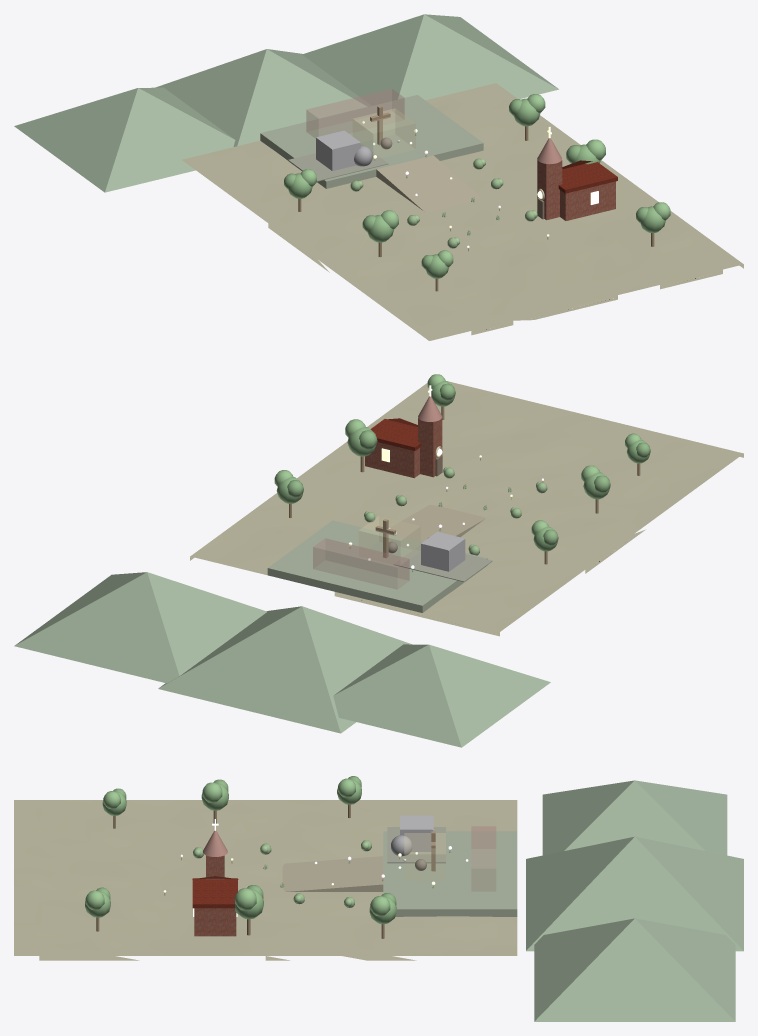
Rendered from cross_and_tomb.glb.
3 renders of one model, top to bottom at view 1: azimuth 30°, elevation 25°; view 2: azimuth 150°, elevation 25°; view 3: azimuth 270°, elevation 25°, orthographic. The views are drawn at different scales.
Parts seen in each view (by area): view 1: ENV_Cross_Ground, VIS_PROP_Ridge_GreenHills (×3), ENV_Cross_Hilltop, VIS_PROP_Chapel (×3), ENV_Cross_HillPath, TRIGGER_DemoEnd, TRIGGER_CrossEvent, VIS_PROP_Tomb, ENV_Cross_TombSlope; view 2: ENV_Cross_Ground, VIS_PROP_Ridge_GreenHills (×3), ENV_Cross_Hilltop, VIS_PROP_Chapel (×3), TRIGGER_DemoEnd, ENV_Cross_HillPath, TRIGGER_CrossEvent, VIS_PROP_Tomb, ENV_Cross_TombSlope; view 3: ENV_Cross_Ground, VIS_PROP_Ridge_GreenHills (×3), ENV_Cross_Hilltop, VIS_PROP_Chapel (×4), ENV_Cross_HillPath, TRIGGER_CrossEvent, TRIGGER_DemoEnd, ENV_Cross_TombSlope, VIS_PROP_Tomb.
Part boxes in pixels (bbox=[...]): ENV_Cross_Ground: bbox=[182, 83, 743, 340]; VIS_PROP_Ridge_GreenHills (×3): bbox=[14, 14, 558, 192]; ENV_Cross_Hilltop: bbox=[260, 95, 483, 188]; VIS_PROP_Chapel (×3): bbox=[537, 157, 617, 220]; ENV_Cross_HillPath: bbox=[376, 155, 481, 211]; TRIGGER_DemoEnd: bbox=[306, 89, 404, 137]; TRIGGER_CrossEvent: bbox=[353, 108, 415, 158]; VIS_PROP_Tomb: bbox=[316, 130, 360, 170]; ENV_Cross_TombSlope: bbox=[288, 143, 388, 181]; ENV_Cross_Ground: bbox=[190, 381, 743, 636]; VIS_PROP_Ridge_GreenHills (×3): bbox=[14, 572, 550, 747]; ENV_Cross_Hilltop: bbox=[267, 520, 487, 612]; VIS_PROP_Chapel (×3): bbox=[365, 415, 442, 478]; TRIGGER_DemoEnd: bbox=[313, 538, 409, 588]; ENV_Cross_HillPath: bbox=[390, 505, 485, 542]; TRIGGER_CrossEvent: bbox=[359, 516, 420, 558]; VIS_PROP_Tomb: bbox=[421, 532, 465, 571]; ENV_Cross_TombSlope: bbox=[394, 544, 492, 581]; ENV_Cross_Ground: bbox=[14, 800, 517, 960]; VIS_PROP_Ridge_GreenHills (×3): bbox=[526, 780, 743, 1021]; ENV_Cross_Hilltop: bbox=[383, 831, 517, 916]; VIS_PROP_Chapel (×4): bbox=[192, 830, 237, 936]; ENV_Cross_HillPath: bbox=[282, 856, 383, 891]; TRIGGER_CrossEvent: bbox=[404, 833, 445, 880]; TRIGGER_DemoEnd: bbox=[471, 826, 495, 890]; ENV_Cross_TombSlope: bbox=[387, 827, 445, 863]; VIS_PROP_Tomb: bbox=[400, 815, 433, 851].
Size of the model in its own units: 63 by 16.25 by 87.
Materials: 41 (2 with a texture image).
